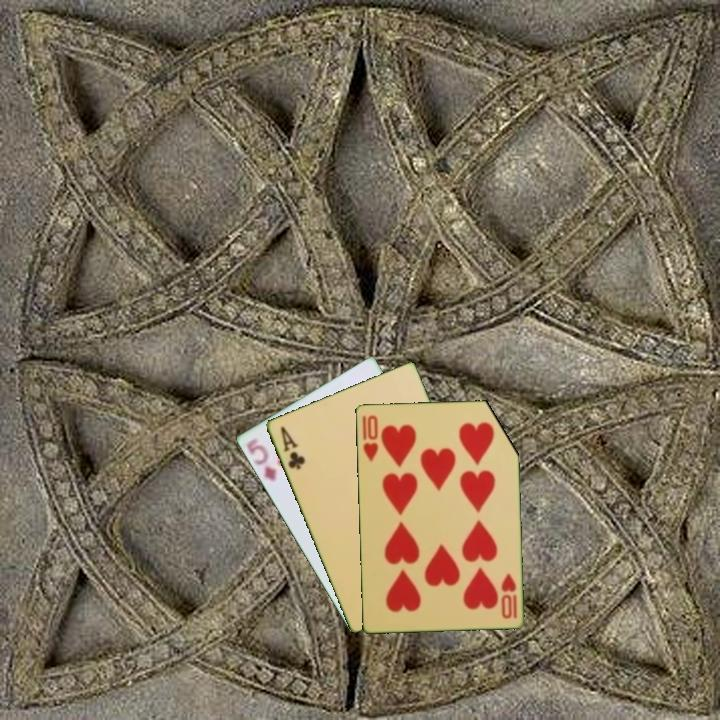10h: (359, 411, 381, 464), (497, 570, 519, 621)
5d: (242, 434, 279, 485)
Ac: (277, 422, 308, 472)
